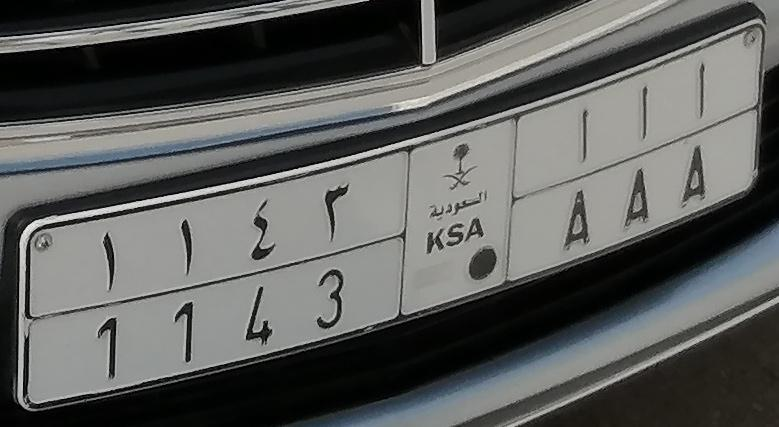1: (93, 230, 127, 385), (167, 217, 197, 366)
3: (310, 177, 352, 335)
4: (242, 197, 279, 352)
A: (558, 104, 601, 256), (619, 85, 661, 230), (679, 59, 715, 208)
